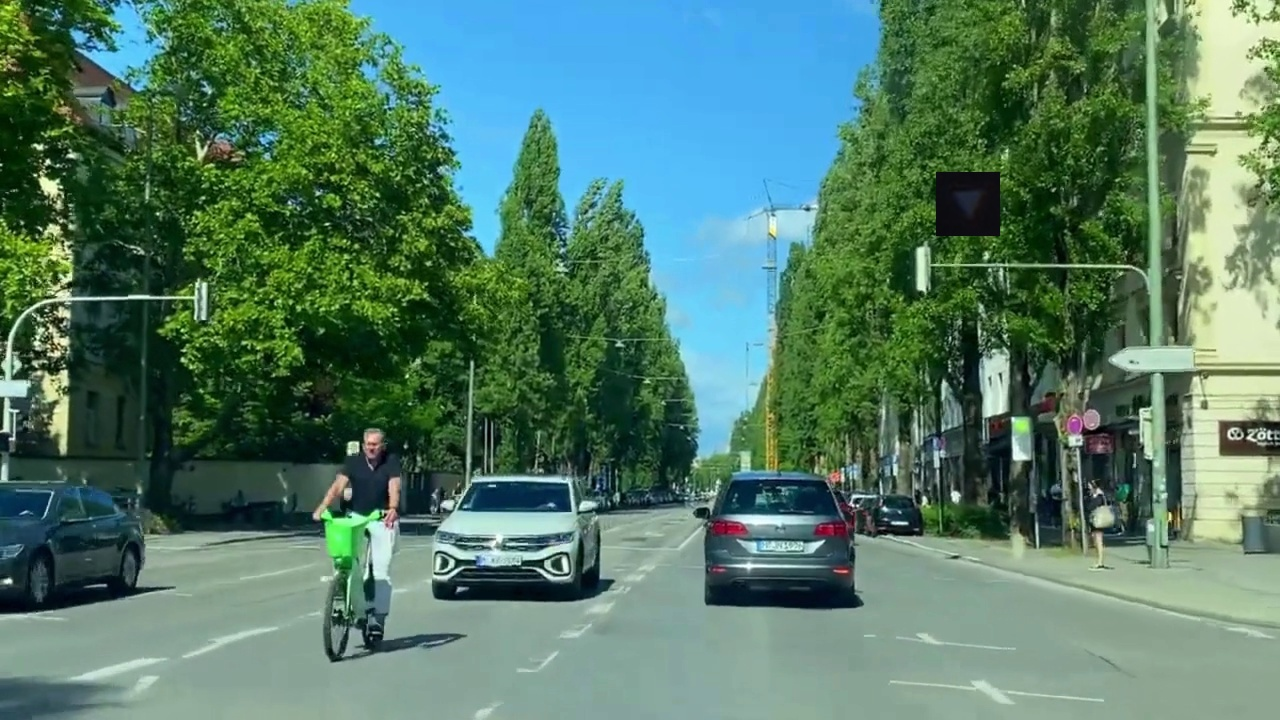Yield: (936, 172, 1000, 236)
